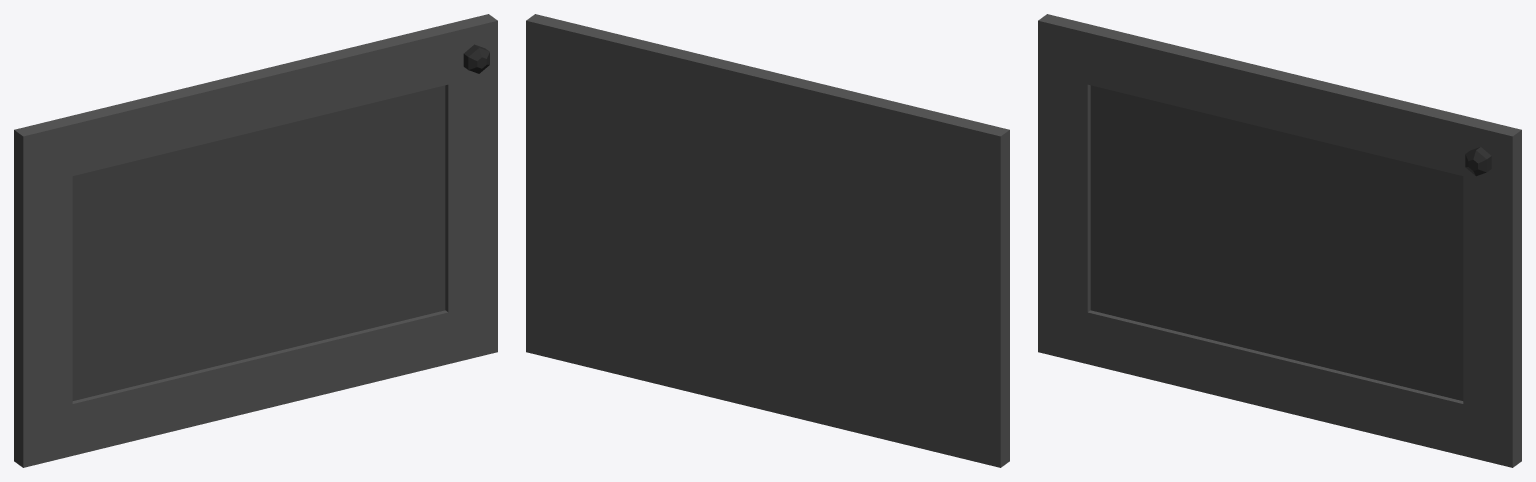
File: TV_Table3_C2_03.fbx
The picture shows the model from 3 angles, left to right: view 1: azimuth 30°, elevation 25°; view 2: azimuth 150°, elevation 25°; view 3: azimuth 330°, elevation 25°; orthographic projection.
Visible parts, largest first — view 1: TV_Table3_C2_03; view 2: TV_Table3_C2_03; view 3: TV_Table3_C2_03.
Part boxes in pixels (x1,y1,x2,y2): TV_Table3_C2_03: (14, 14, 497, 467); TV_Table3_C2_03: (526, 14, 1009, 467); TV_Table3_C2_03: (1038, 14, 1521, 467).
Size of the model in its own units: 59.97 by 40.02 by 4.58.
